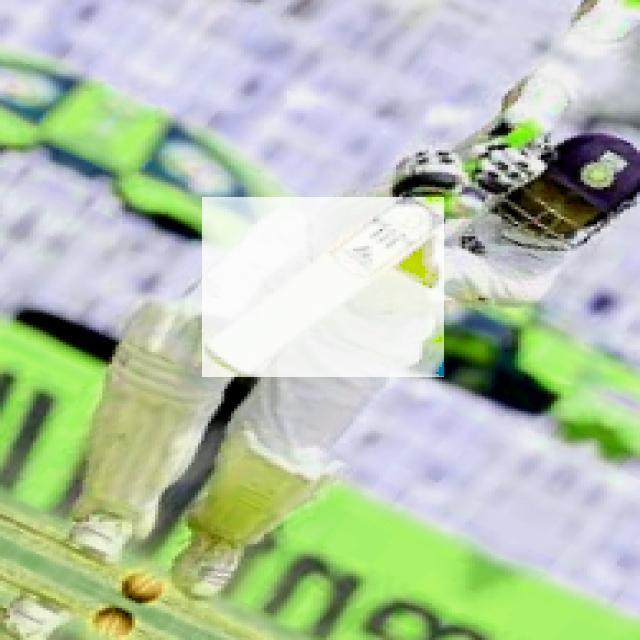bat: (204, 199, 442, 378)
toe: (205, 349, 249, 378)
